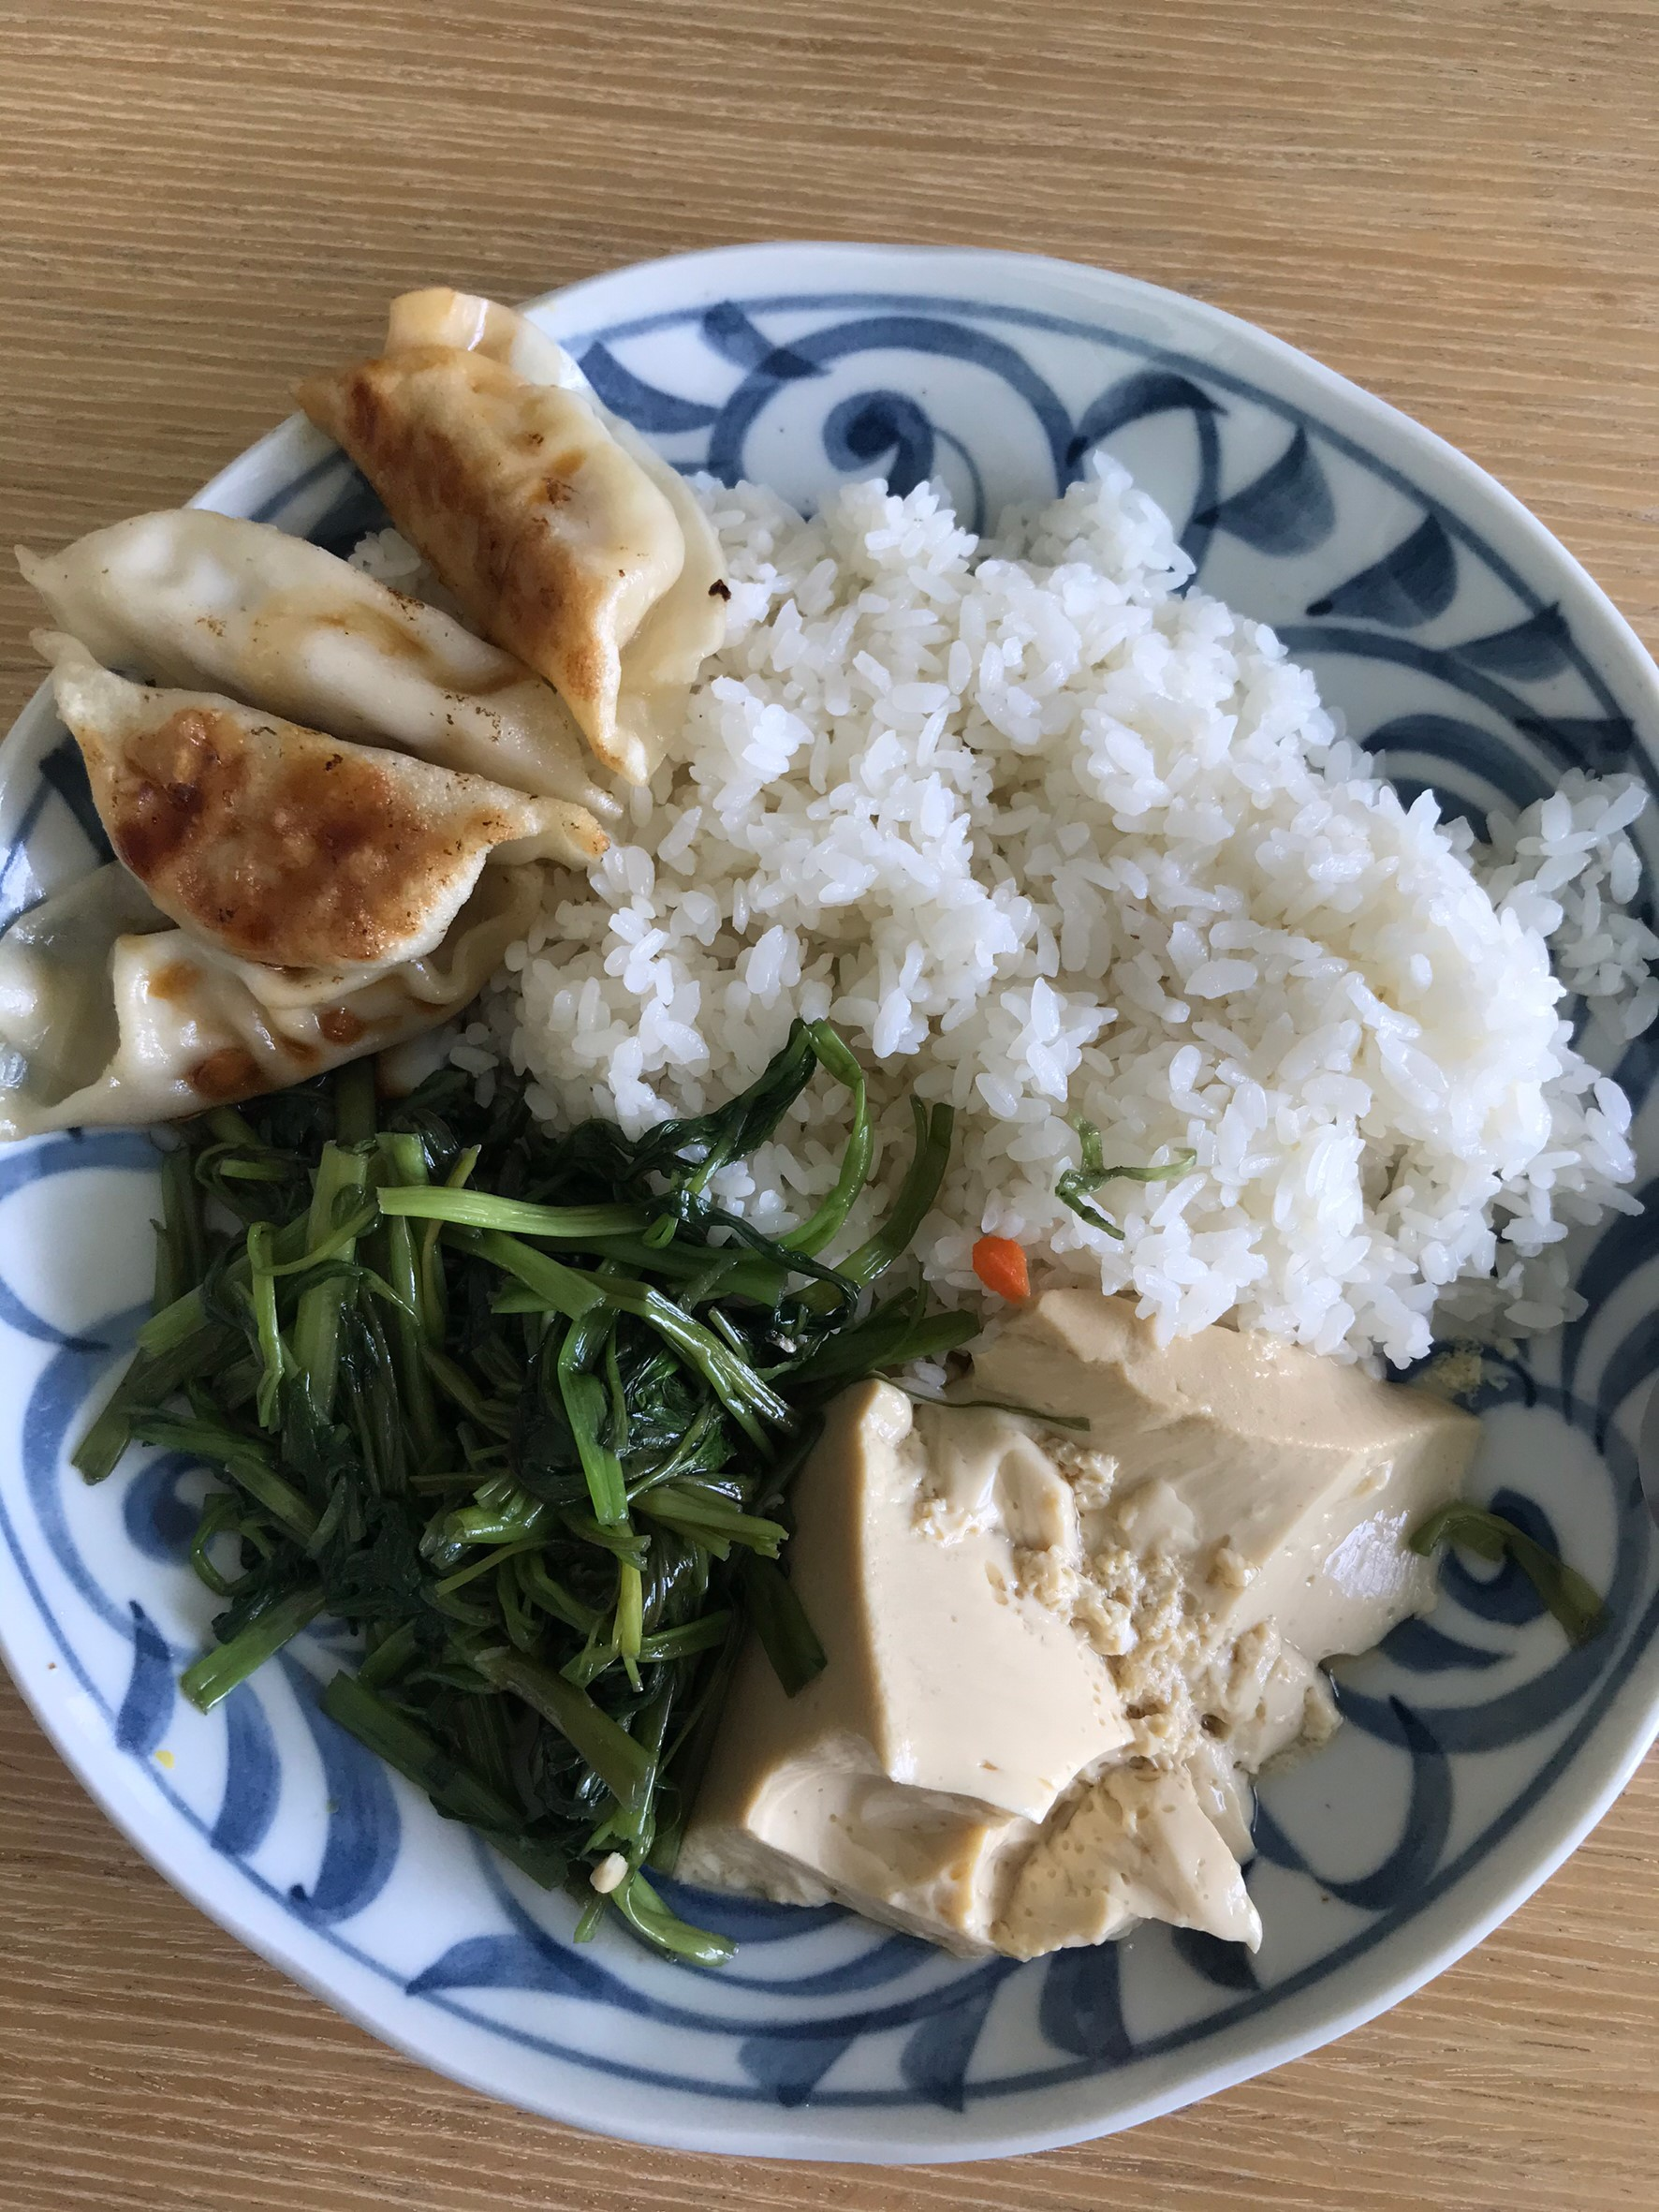fried_dumplings: (2, 403, 650, 1126)
rice: (732, 669, 1410, 1194)
water_spinach: (155, 1187, 803, 1736)
